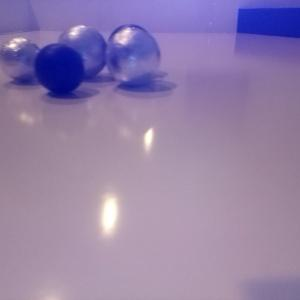alive_ball: (106, 27, 161, 87), (58, 24, 107, 78), (1, 37, 41, 81)
dead_ball: (106, 24, 161, 79), (34, 44, 85, 94)
